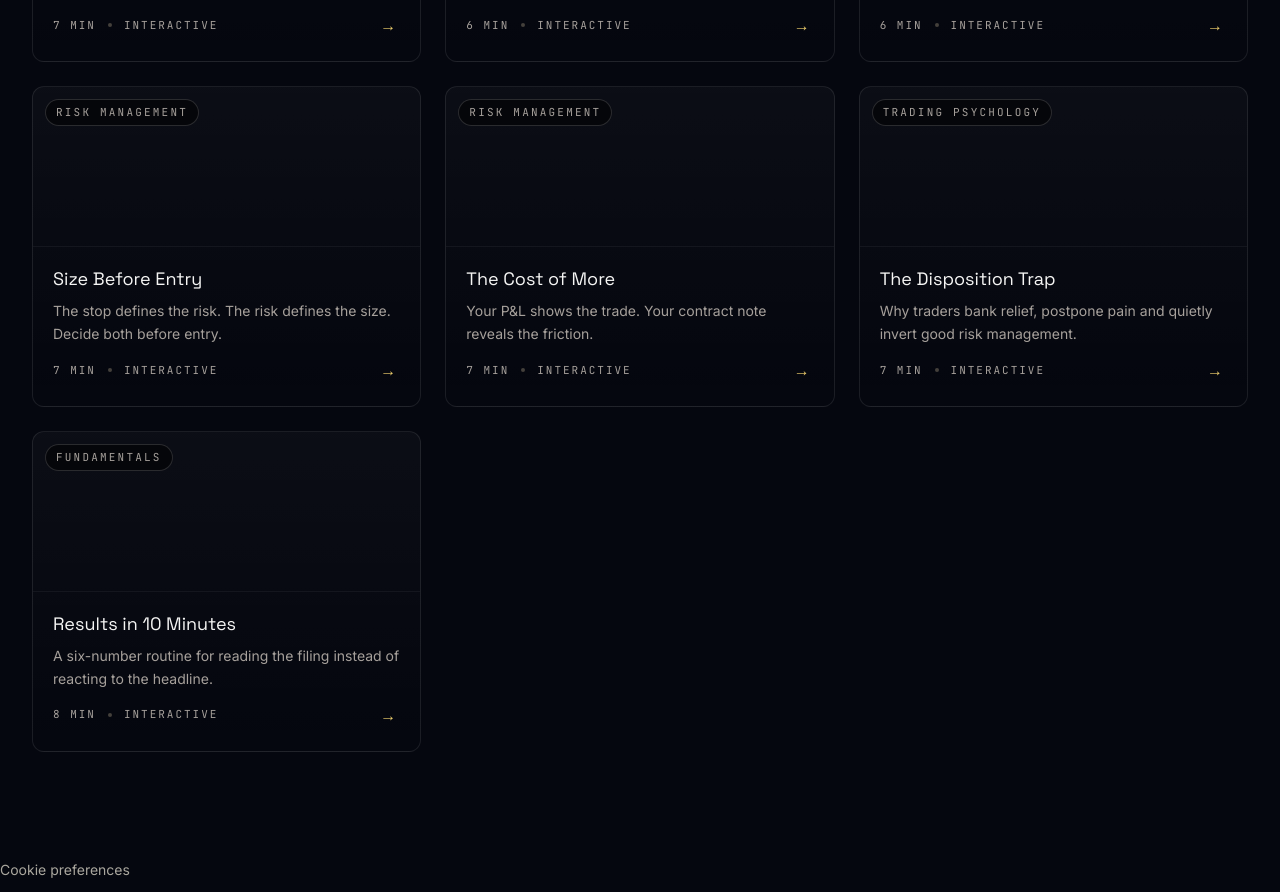
Test: reader overlay coordination › preserves an explicitly reopened preferences banner while the reader temporarily suspends it
(page scrolled)
Check: the button "Reject" is not shown
Click the button "Cookie preferences": (65, 870) x1=0 y1=848 x2=130 y2=891
(page scrolled)
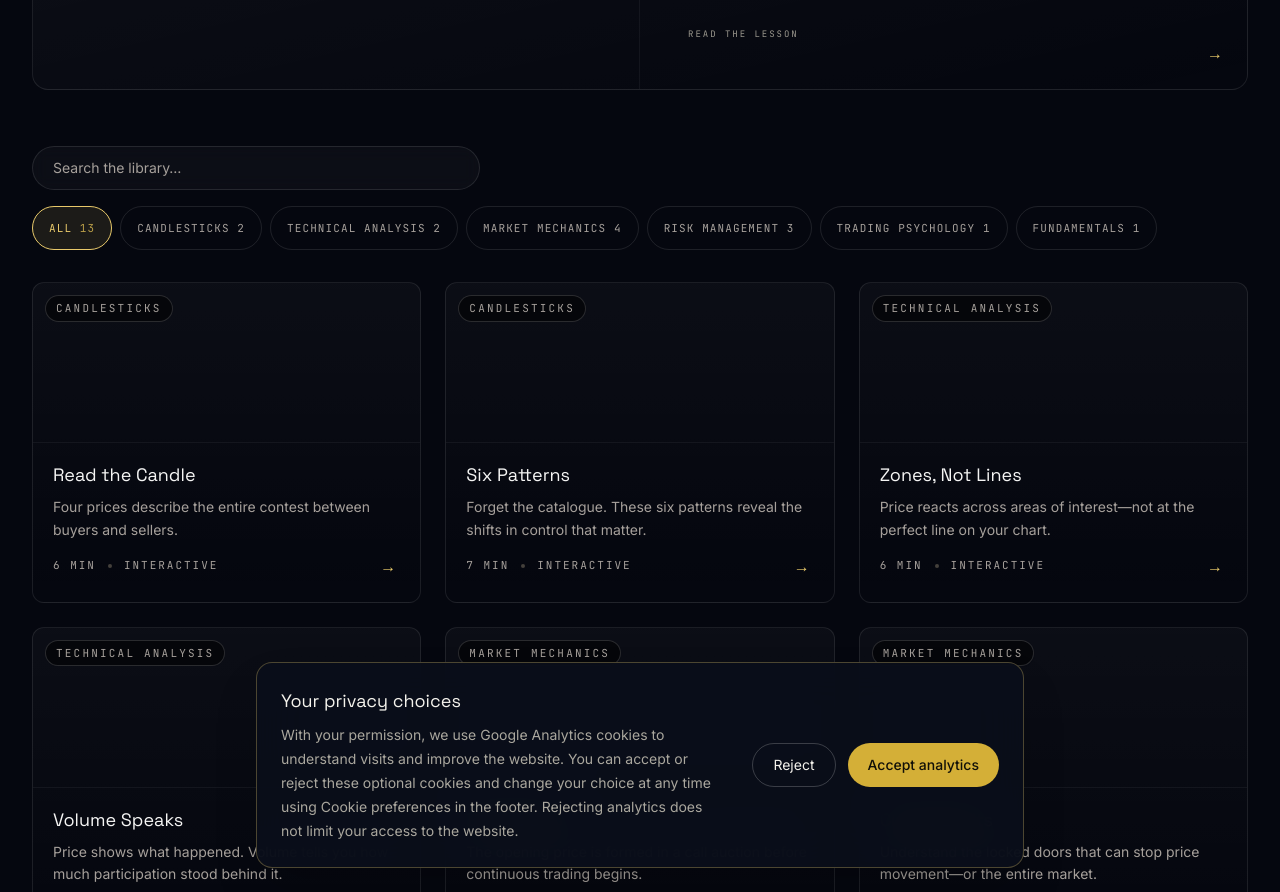
Check: the button "Reject" is shown, box x1=752 y1=743 x2=836 y2=787
Click the link with aria-label "Read Read the Candle": (227, 442) x1=32 y1=282 x2=421 y2=603
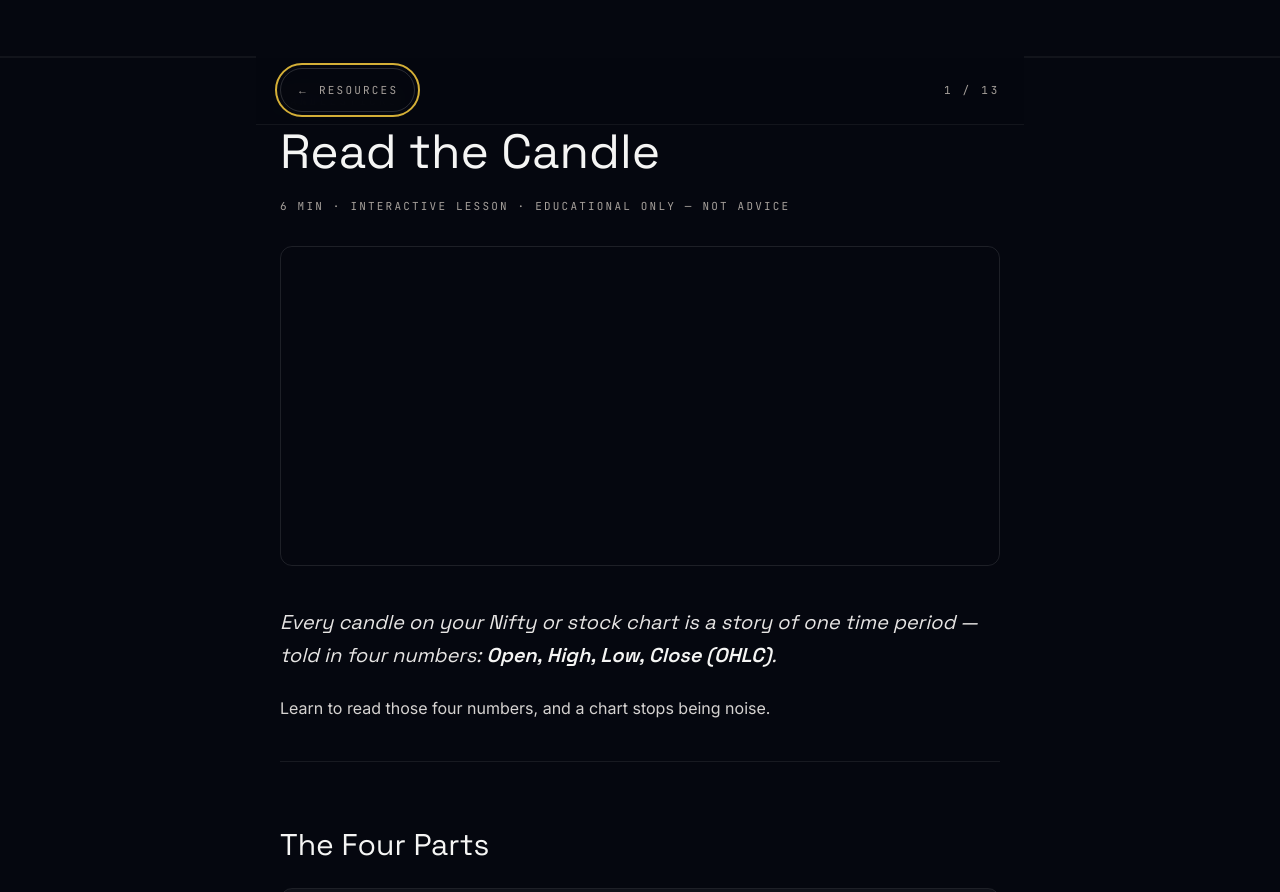
Check: the text "Reject" is gone
Press Escape
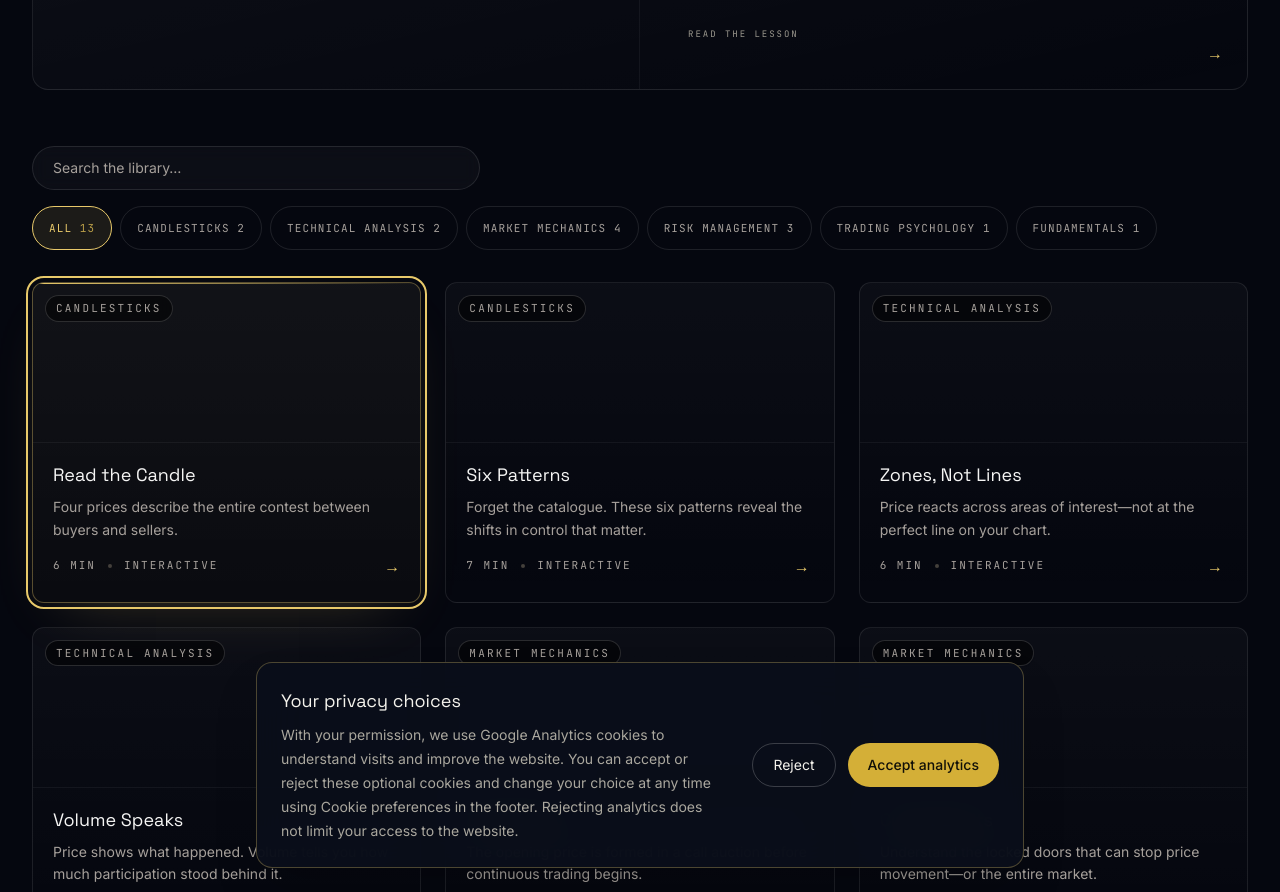
Check: the button "Reject" is shown, box x1=752 y1=743 x2=836 y2=787
